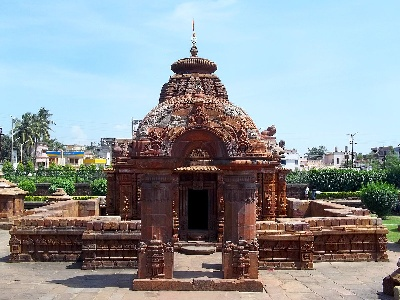torana: (127, 97, 275, 277)
